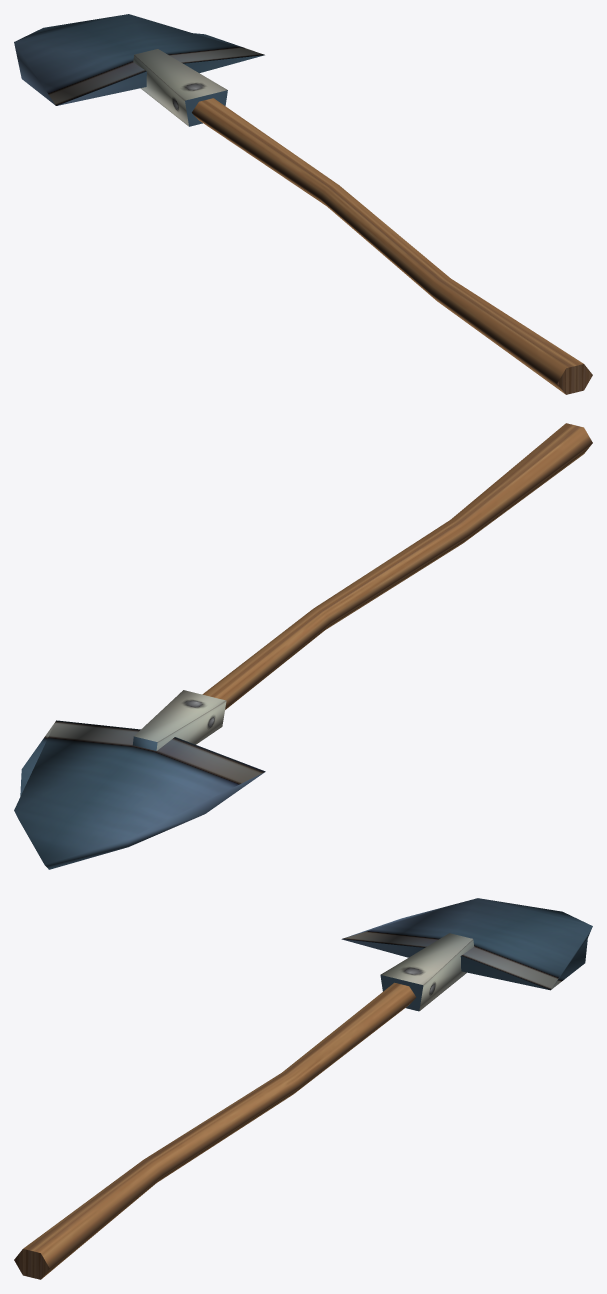
Rendered from Shovel_01.FBX.
3 renders of one model, top to bottom at view 1: azimuth 30°, elevation 25°; view 2: azimuth 150°, elevation 25°; view 3: azimuth 330°, elevation 25°, orthographic.
Parts seen in each view (by area): view 1: Shovel_01; view 2: Shovel_01; view 3: Shovel_01.
Boxes of the visible parts, <box> form: Shovel_01: <box>14,14,592,394</box>; Shovel_01: <box>14,423,592,869</box>; Shovel_01: <box>14,898,592,1279</box>.
Bounding box in the file's own units: 0.3992 × 0.1062 × 1.75.
